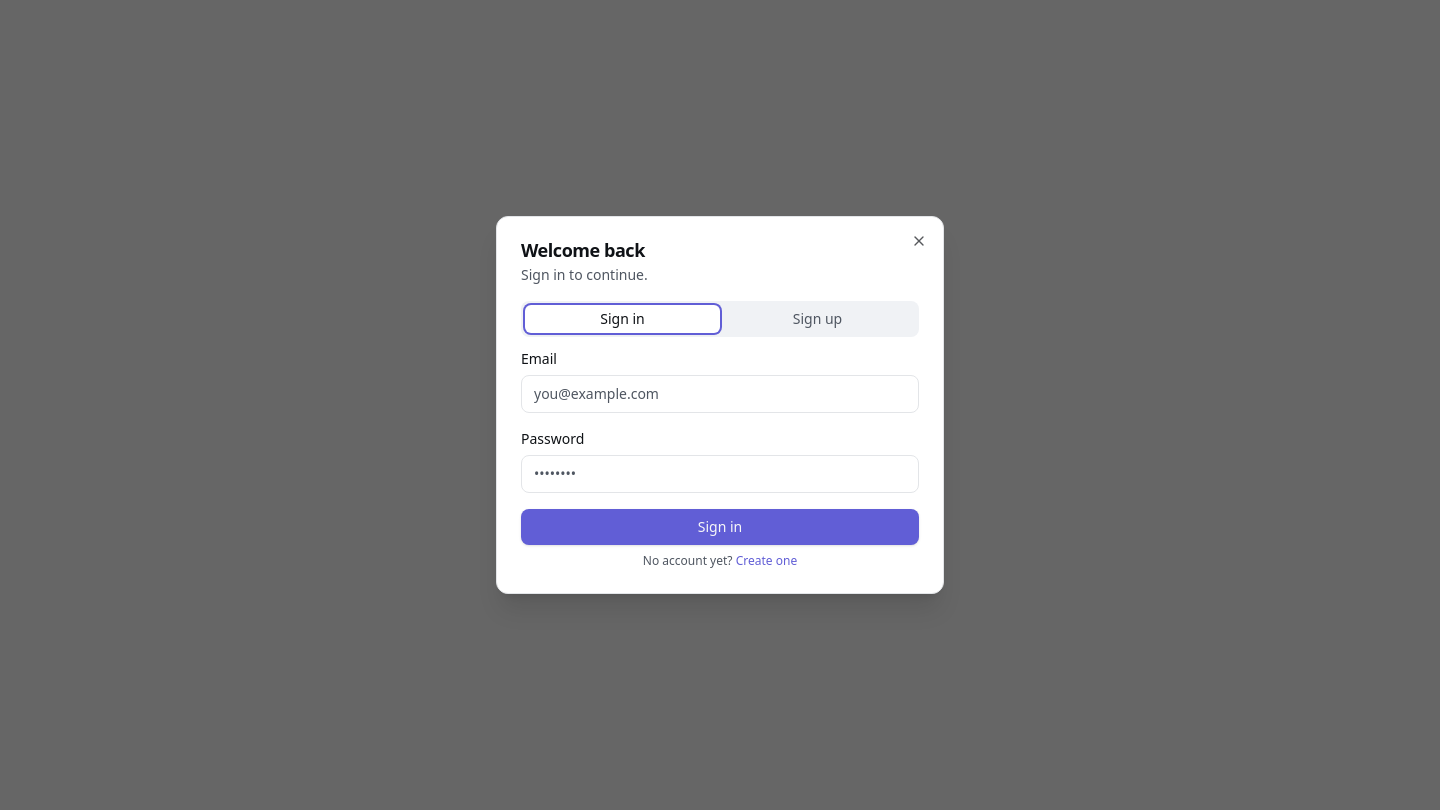
Scenario: <SignInModal /> › switches to the sign-up tab and exposes a full-name field
The image size is (1440, 810).
Click the tab "Sign up": (818, 319) [720,305,915,333]
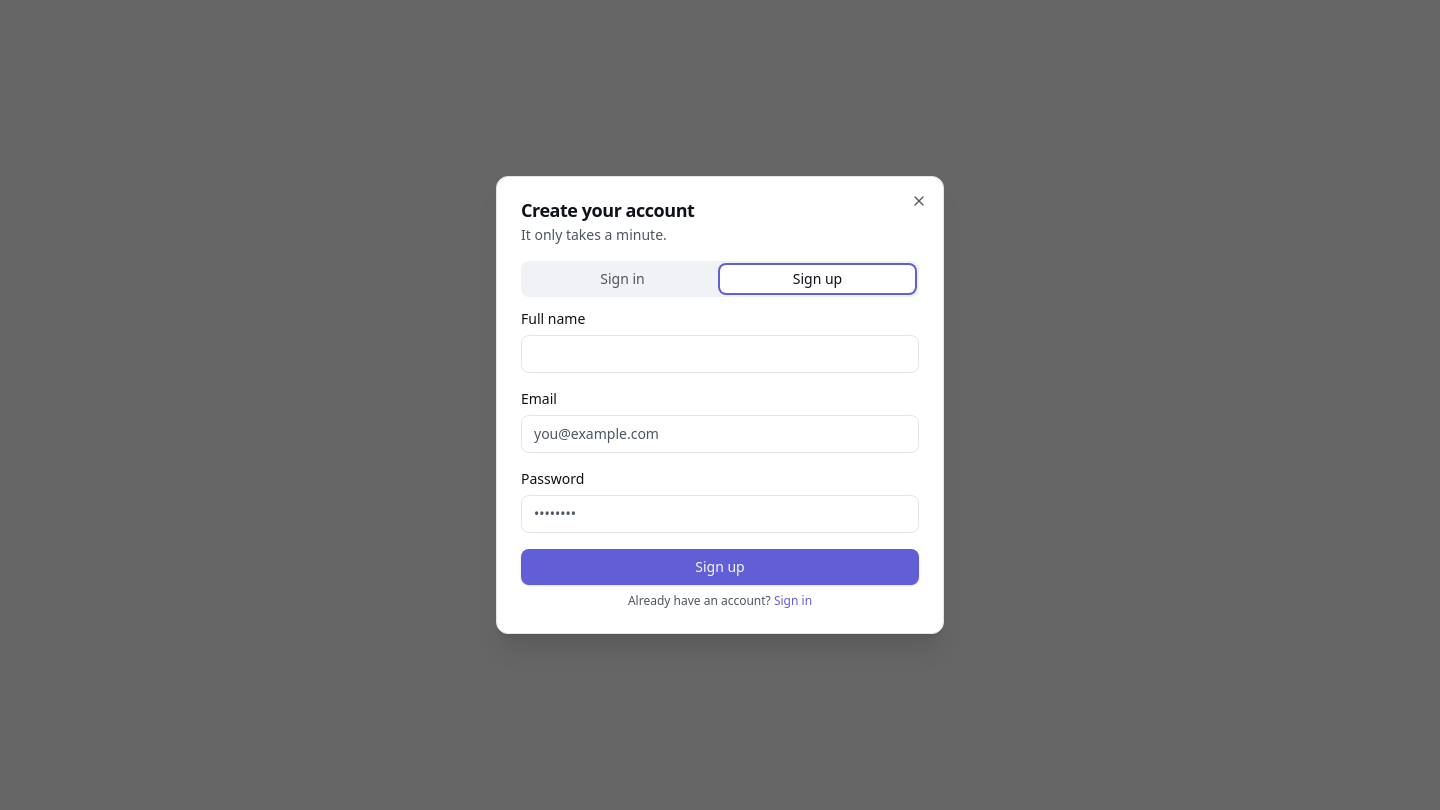
Expected: the field labelled "Full name" is shown, [521,335,919,373]
Expected: the button "Sign up" is shown, [521,549,919,585]
